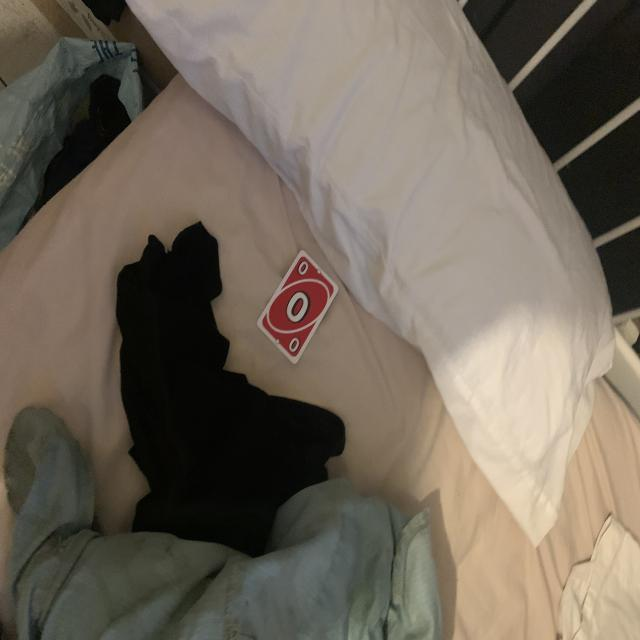lred-0: (296, 258, 310, 278)
